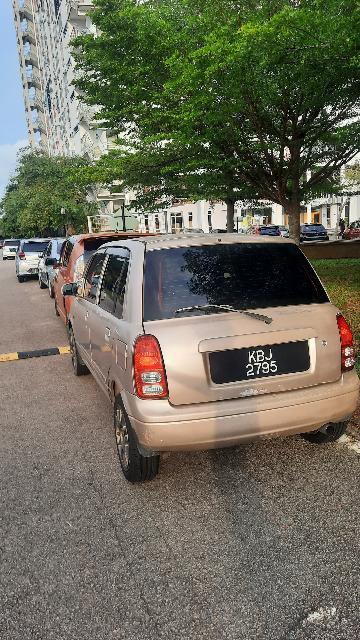License_Plate: (207, 336, 322, 390)
car: (54, 227, 360, 494)
